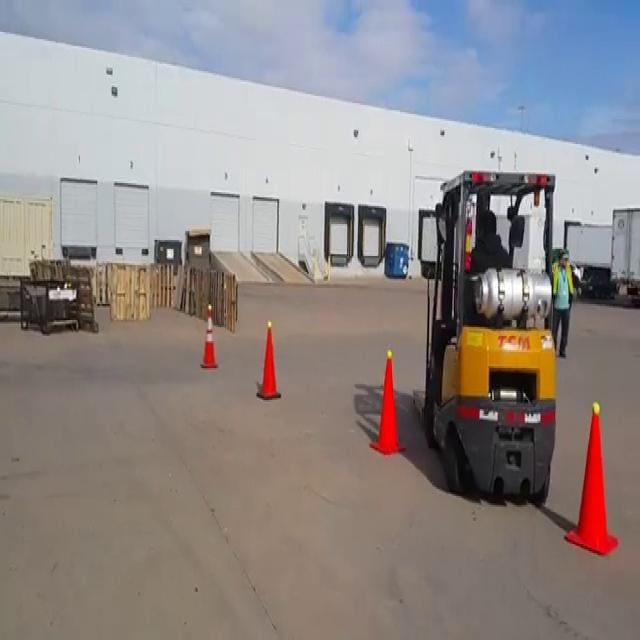Chariot elevateur: (414, 163, 570, 511)
